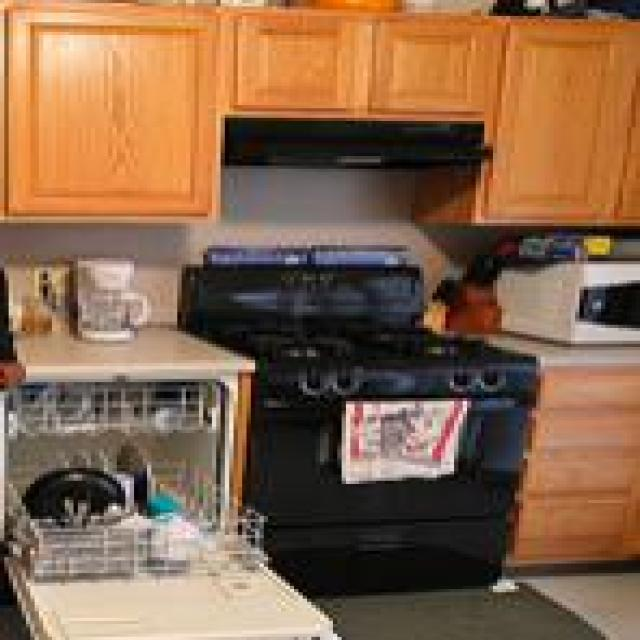dishwasher: (0, 363, 324, 637)
